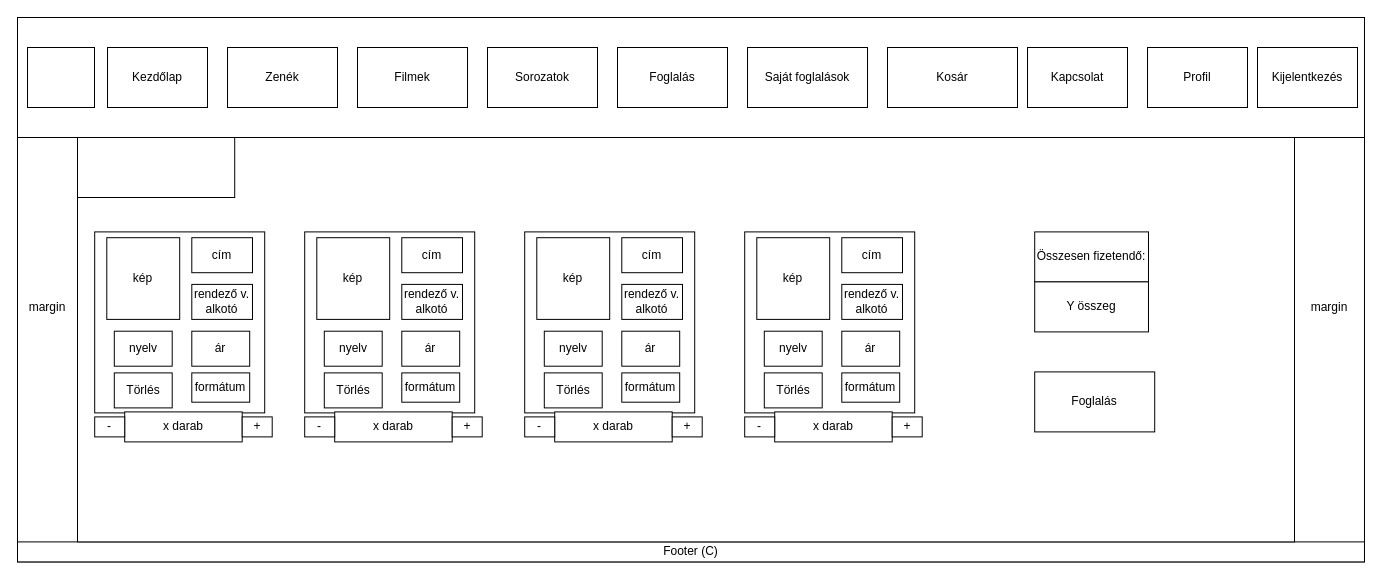
The diagram is 1382 pixels wide and 580 high, and some of its shapes have lost their labels. Each missing label, with the box of its shape:
Foglalási kosár: (76, 136, 235, 198)
Logo (opcionális): (26, 46, 94, 108)
